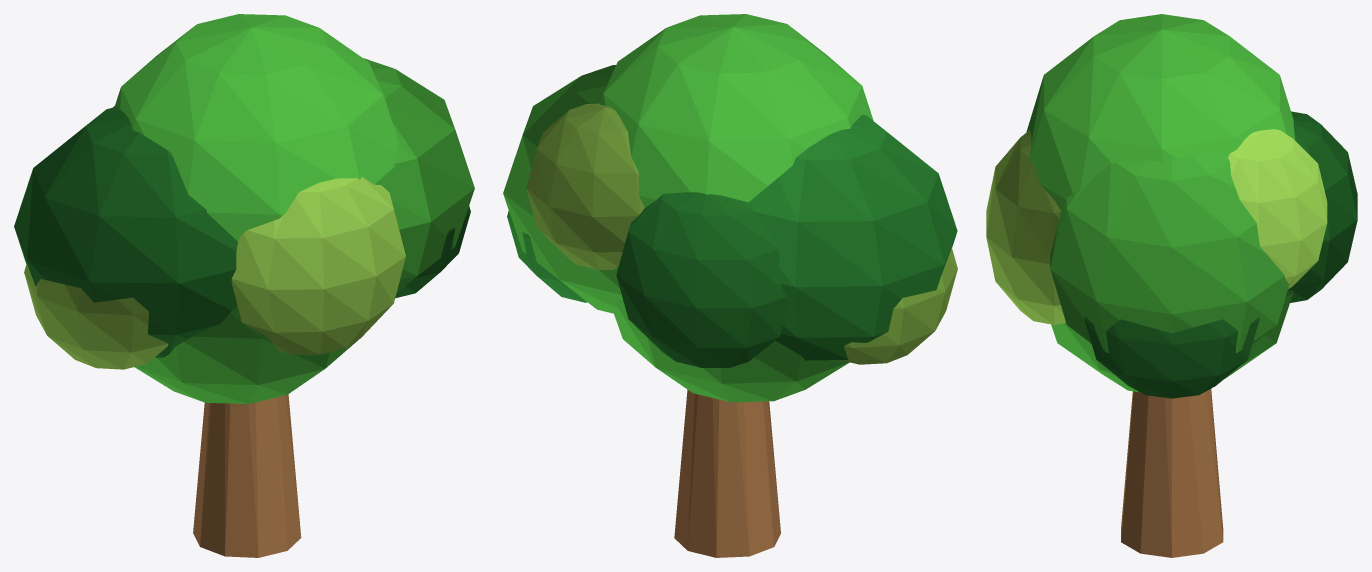
File: ForestTreeColor.obj
3 views of the same model, side by side, from view 1: azimuth 30°, elevation 25°; view 2: azimuth 150°, elevation 25°; view 3: azimuth 270°, elevation 25° (orthographic).
Visible parts, largest first — view 1: ForestTreeColor; view 2: ForestTreeColor; view 3: ForestTreeColor.
Part boxes in pixels (x1,y1,x2,y2): ForestTreeColor: (14,14,474,557); ForestTreeColor: (503,14,957,557); ForestTreeColor: (986,14,1357,557).
Size of the model in its own units: 0.97 by 1.09 by 0.7258.
Materials: 5 (5 with a texture image).
